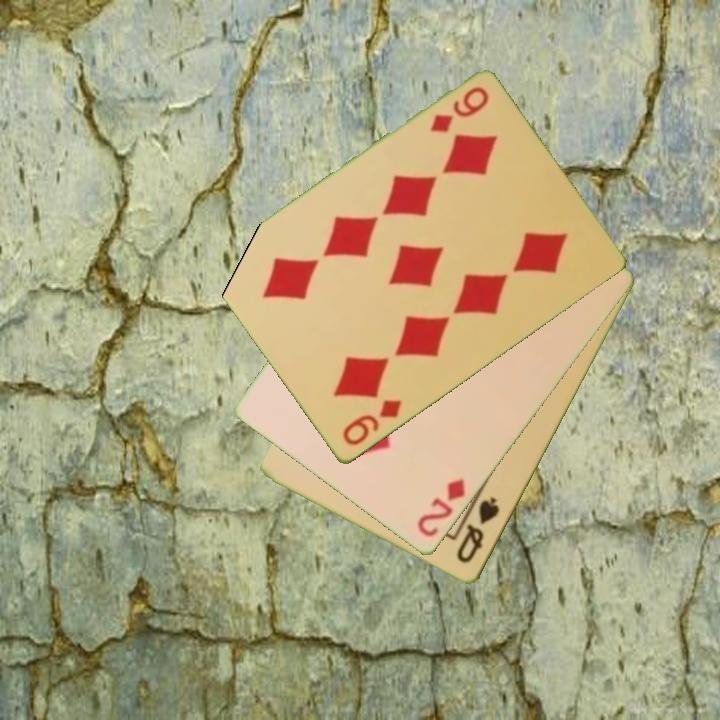2d: (413, 475, 469, 541)
9d: (338, 396, 405, 450), (426, 83, 492, 137)
Qs: (453, 493, 503, 567)
